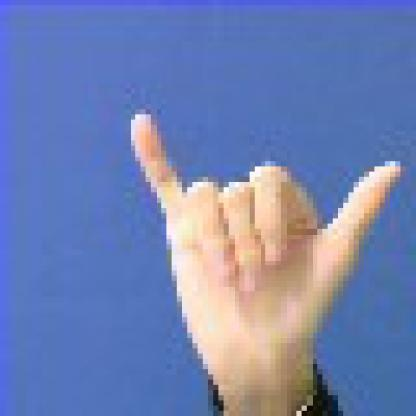six: (116, 102, 416, 408)
